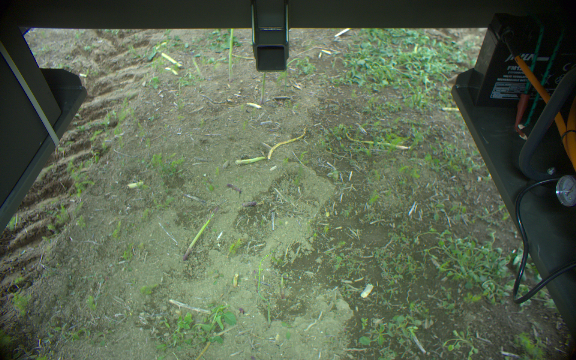aspa: (183, 202, 219, 258), (224, 27, 237, 80), (257, 73, 268, 104)
